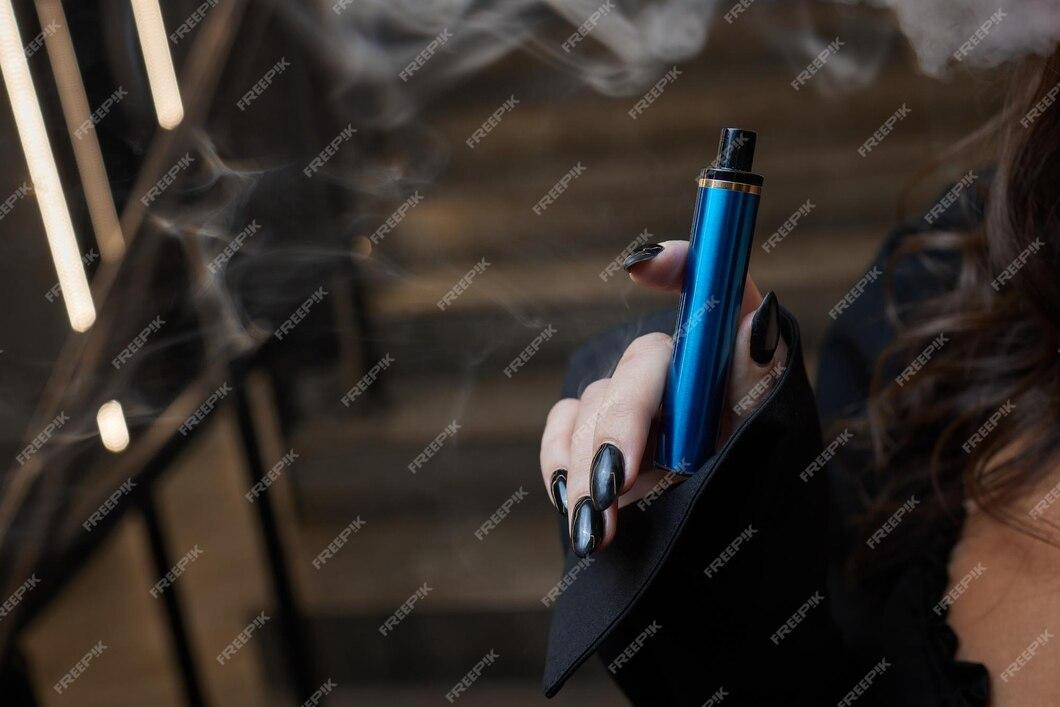Vape: (658, 129, 763, 475)
